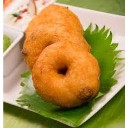vada: (32, 42, 102, 107), (26, 21, 90, 78), (34, 4, 84, 44)
